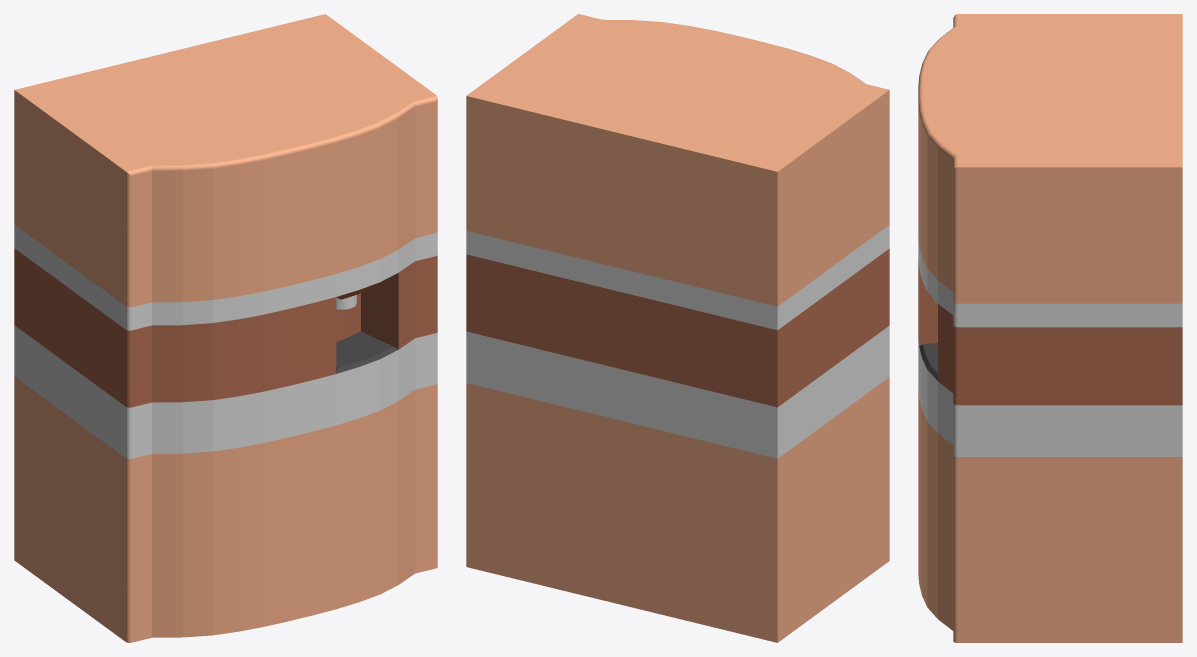
Rendered from CoffeeMachine.fbx.
The picture shows the model from 3 angles, left to right: view 1: azimuth 30°, elevation 25°; view 2: azimuth 150°, elevation 25°; view 3: azimuth 270°, elevation 25°; orthographic projection.
Visible parts, largest first — view 1: coffee_machine; view 2: coffee_machine; view 3: coffee_machine.
Boxes of the visible parts, x1,y1,x2,y2 form: coffee_machine: [14, 14, 437, 642]; coffee_machine: [466, 14, 889, 642]; coffee_machine: [918, 14, 1182, 642].
Bounding box in the file's own units: 2 × 1.46 × 2.89.
